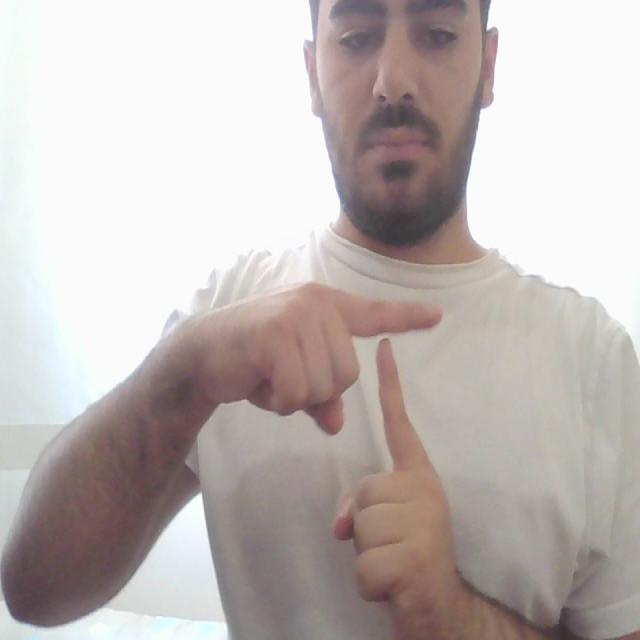Tesekkurler: (330, 273, 460, 498)
